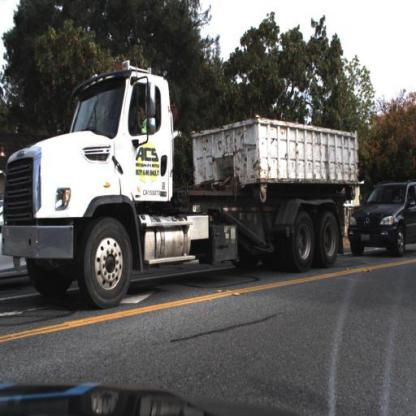car: (348, 179, 416, 266)
truck: (1, 62, 362, 309)
